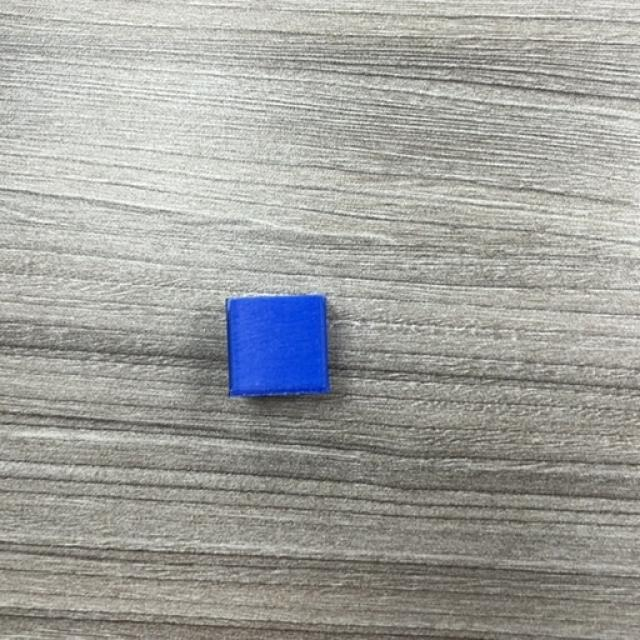Azul: (225, 296, 331, 400)
